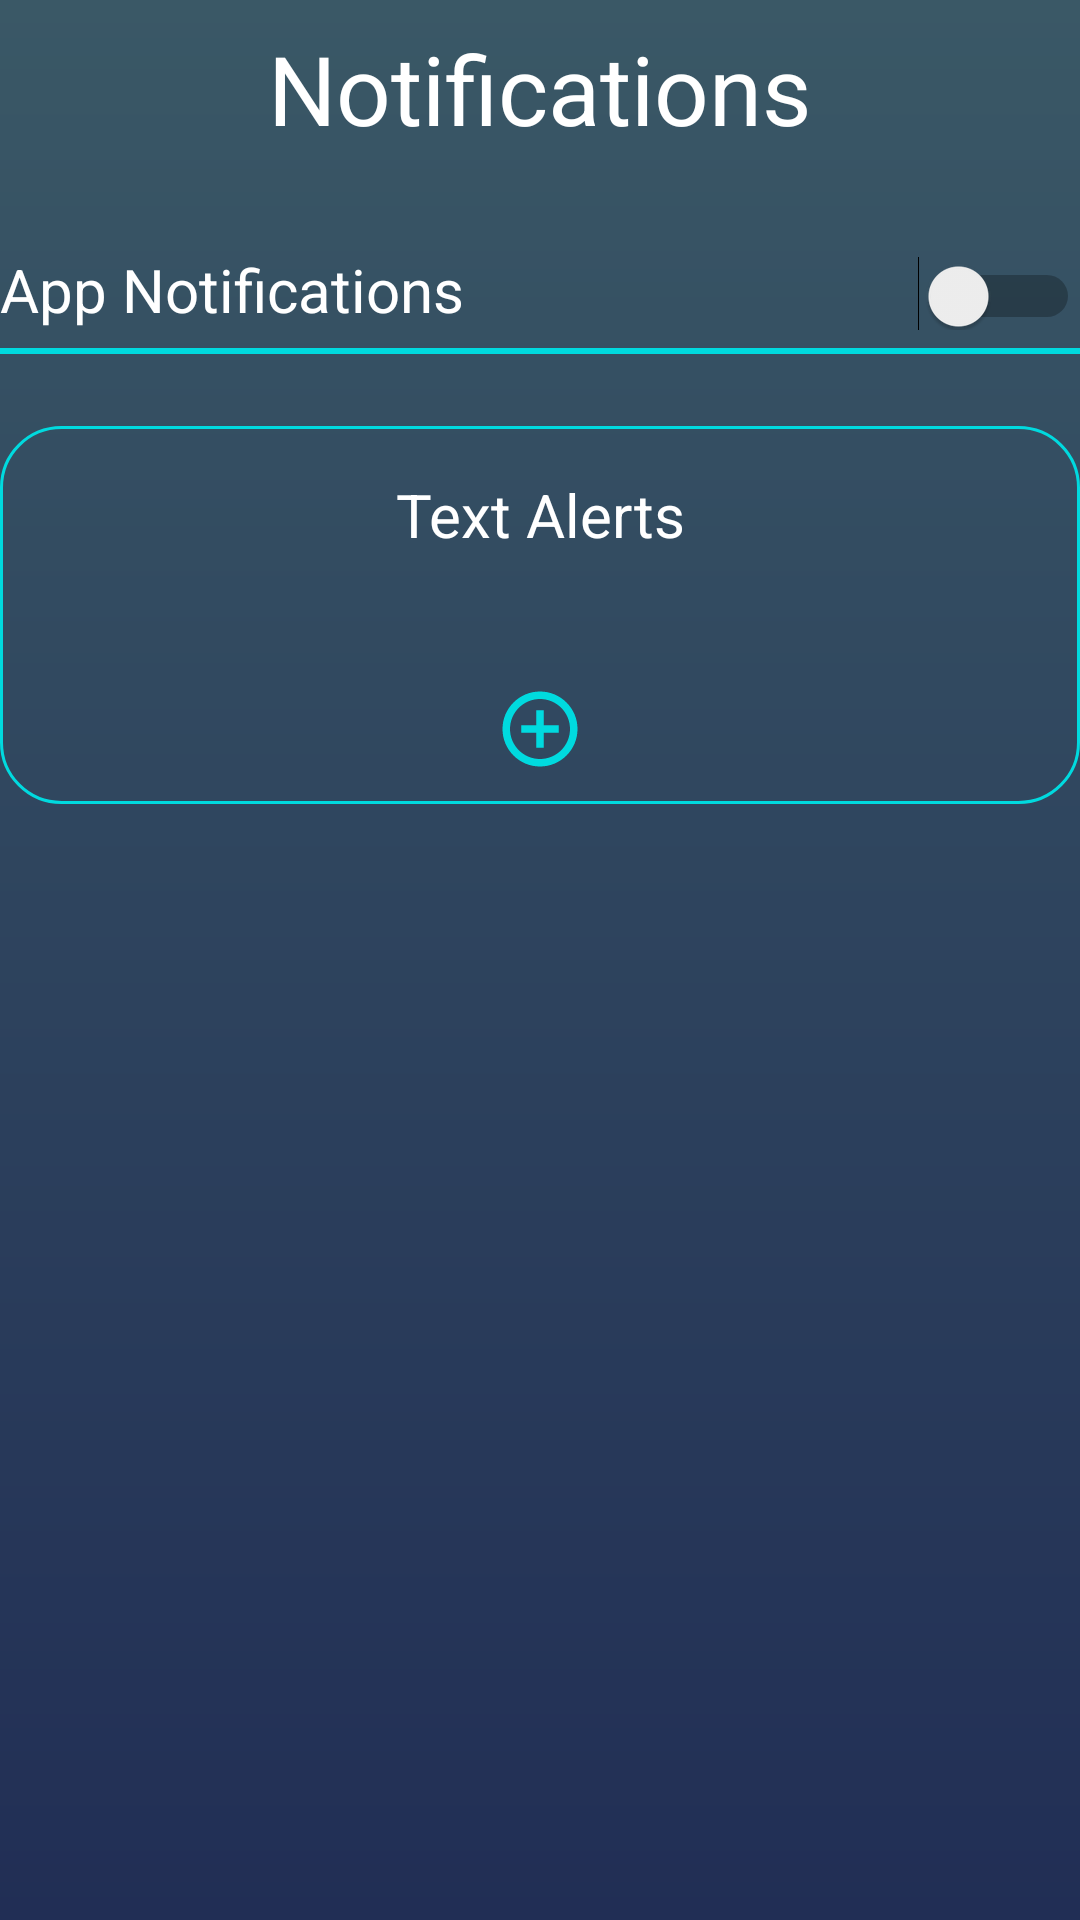

Point at icon controls on the screen. Image size 1080 x 1920, points as (x,y).
add circle: (540,729)
